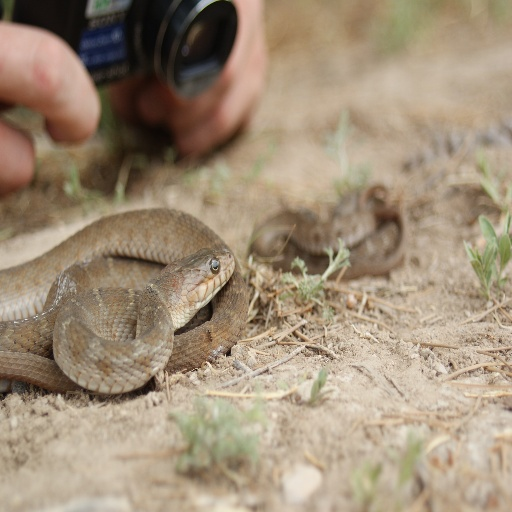hand: (108, 0, 269, 161), (0, 0, 113, 195)
